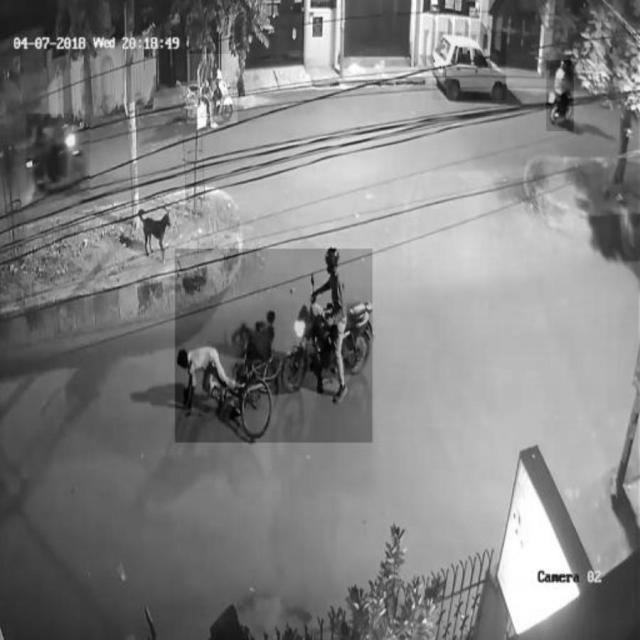accident: (176, 249, 373, 443)
vehicle: (27, 114, 91, 196), (433, 31, 506, 99), (187, 54, 238, 124), (547, 60, 574, 131)
